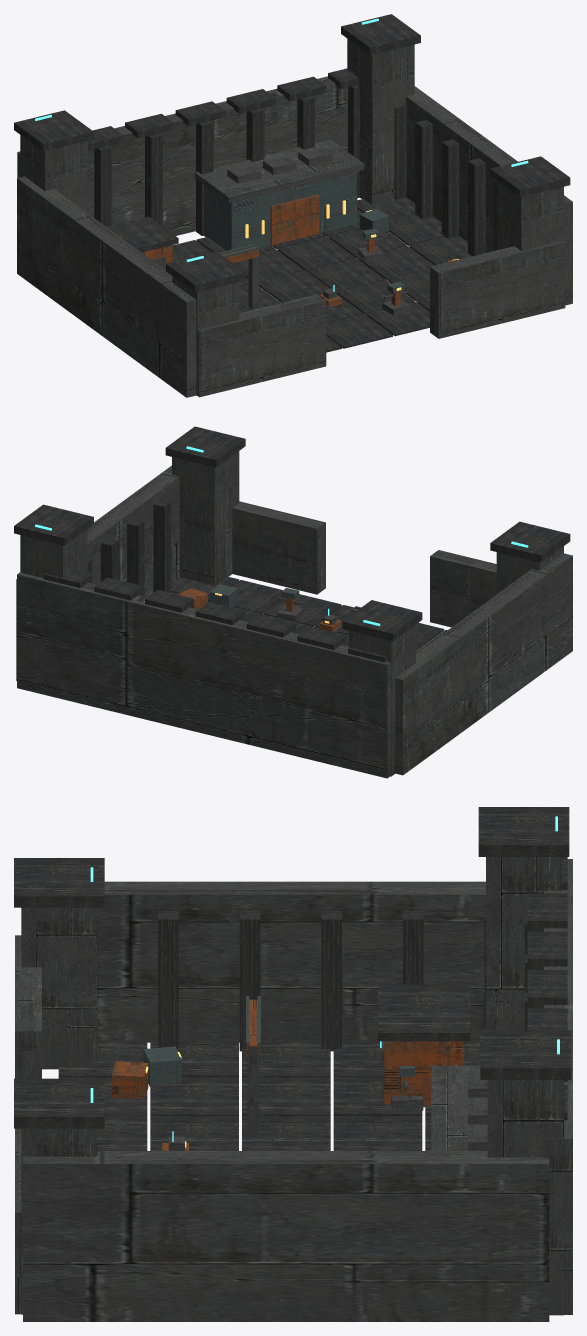
File: repair-district.gltf
3 views of the same model, one above another, from view 1: azimuth 30°, elevation 25°; view 2: azimuth 150°, elevation 25°; view 3: azimuth 270°, elevation 25° (orthographic). The views are drawn at different scales.
Visible parts, largest first — view 1: WestMegawall, NorthMegawall, SouthWallEast, SouthWallWest, EastMegawall, Tower_NE_Core, RepairBay_Block, RepairBay_Roof, Tower_SE_Core, Tower_NW_Core, Tower_SE_Crown, Tower_NE_Crown (+41 smaller); view 2: NorthMegawall, WestMegawall, SouthWallEast, Tower_SE_Core, EastMegawall, SouthWallWest, Tower_NE_Core, Tower_NW_Core, Tower_NW_Crown, Tower_SW_Crown, Tower_SE_Crown, Tower_NE_Crown (+14 smaller); view 3: EastMegawall, WestMegawall, Tower_SW_Core, Tower_NW_Core, NorthMegawall, Tower_NE_Core, Annex_Roof, Tower_SE_Crown, Tower_NW_Crown, Tower_NE_Crown, Tower_SW_Crown, Annex_Core (+27 smaller).
Part boxes in pixels (left/top/right/bottom): WestMegawall: left=17, top=176, right=196, bottom=397; NorthMegawall: left=17, top=76, right=347, bottom=235; SouthWallEast: left=430, top=241, right=565, bottom=338; SouthWallWest: left=197, top=294, right=326, bottom=397; EastMegawall: left=406, top=86, right=572, bottom=305; Tower_NE_Core: left=347, top=39, right=414, bottom=204; RepairBay_Block: left=203, top=171, right=357, bottom=250; RepairBay_Roof: left=195, top=139, right=364, bottom=202; Tower_SE_Core: left=496, top=181, right=563, bottom=250; Tower_NW_Core: left=20, top=135, right=87, bottom=212; Tower_SE_Crown: left=490, top=156, right=570, bottom=197; Tower_NE_Crown: left=341, top=14, right=420, bottom=55; NorthMegawall: left=17, top=572, right=390, bottom=778; WestMegawall: left=395, top=553, right=572, bottom=775; SouthWallEast: left=232, top=501, right=325, bottom=594; Tower_SE_Core: left=172, top=451, right=239, bottom=585; EastMegawall: left=16, top=465, right=179, bottom=680; SouthWallWest: left=430, top=550, right=496, bottom=627; Tower_NE_Core: left=20, top=529, right=87, bottom=577; Tower_NW_Core: left=348, top=625, right=415, bottom=776; Tower_NW_Crown: left=342, top=600, right=422, bottom=640; Tower_SW_Crown: left=490, top=521, right=570, bottom=562; Tower_SE_Crown: left=165, top=426, right=245, bottom=467; Tower_NE_Crown: left=14, top=504, right=93, bottom=545; EastMegawall: left=23, top=1151, right=549, bottom=1321; WestMegawall: left=97, top=881, right=485, bottom=1042; Tower_SW_Core: left=21, top=907, right=97, bottom=1069; Tower_NW_Core: left=486, top=857, right=561, bottom=1029; NorthMegawall: left=544, top=859, right=572, bottom=1314; Tower_NE_Core: left=487, top=1080, right=563, bottom=1315; Annex_Roof: left=378, top=984, right=470, bottom=1041; Tower_SE_Crown: left=14, top=1078, right=104, bottom=1128; Tower_NW_Crown: left=478, top=807, right=569, bottom=856; Tower_NE_Crown: left=480, top=1030, right=571, bottom=1079; Tower_SW_Crown: left=14, top=858, right=104, bottom=907; Annex_Core: left=384, top=1041, right=463, bottom=1107.
Bounding box in the file's own units: 38.1 × 15.47 × 30.8.
3 materials, 1 textured.
